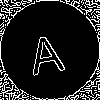A: (25, 25, 66, 76)
